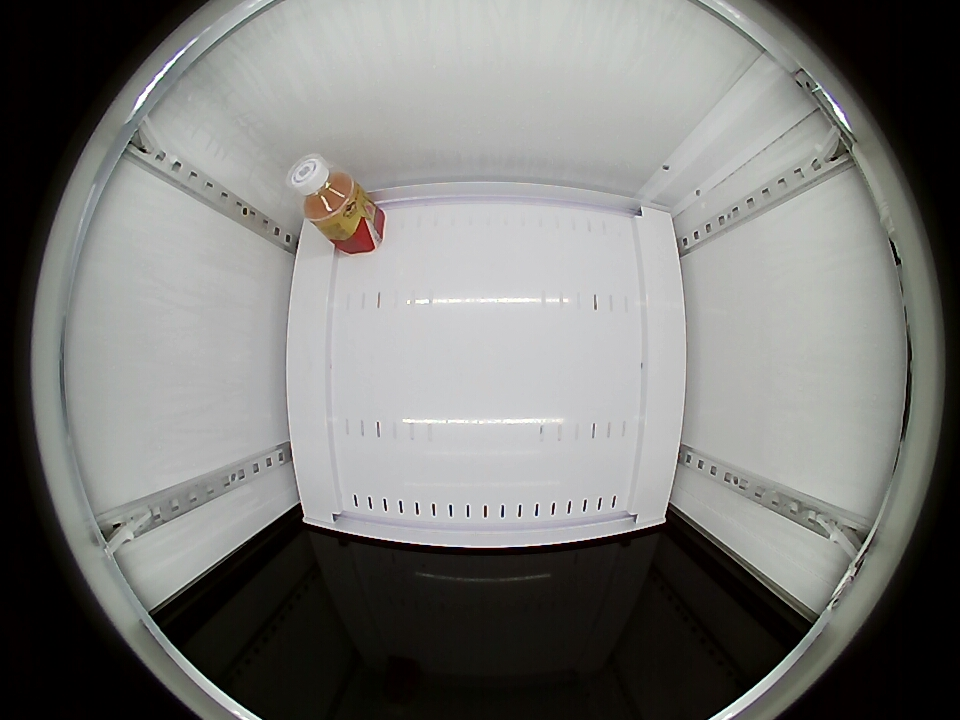dongpeng-b: (287, 154, 359, 224)
